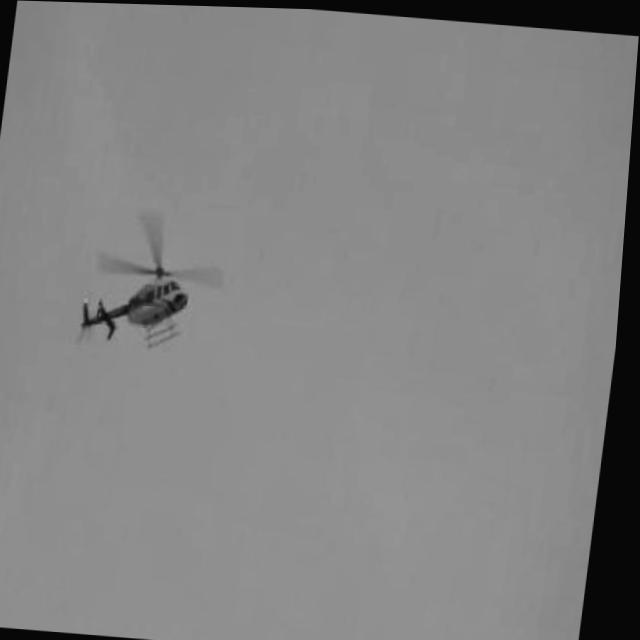helikopter: (57, 189, 242, 373)
